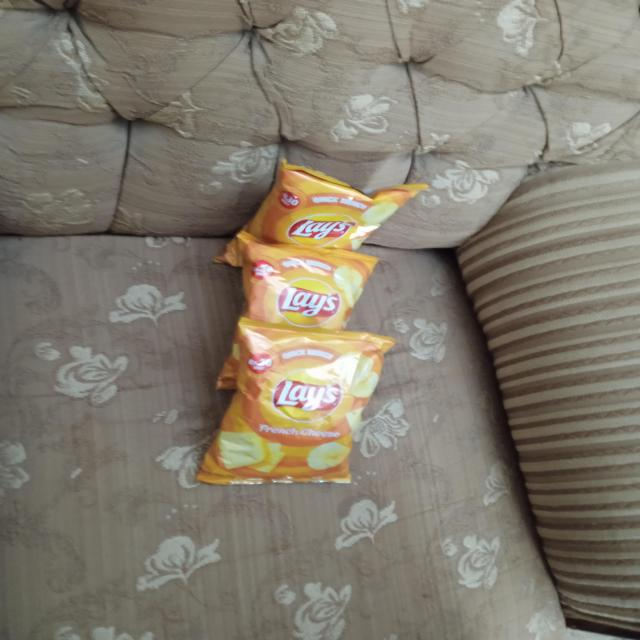Plastic: (205, 323, 384, 489), (246, 170, 419, 252), (240, 252, 382, 322)
